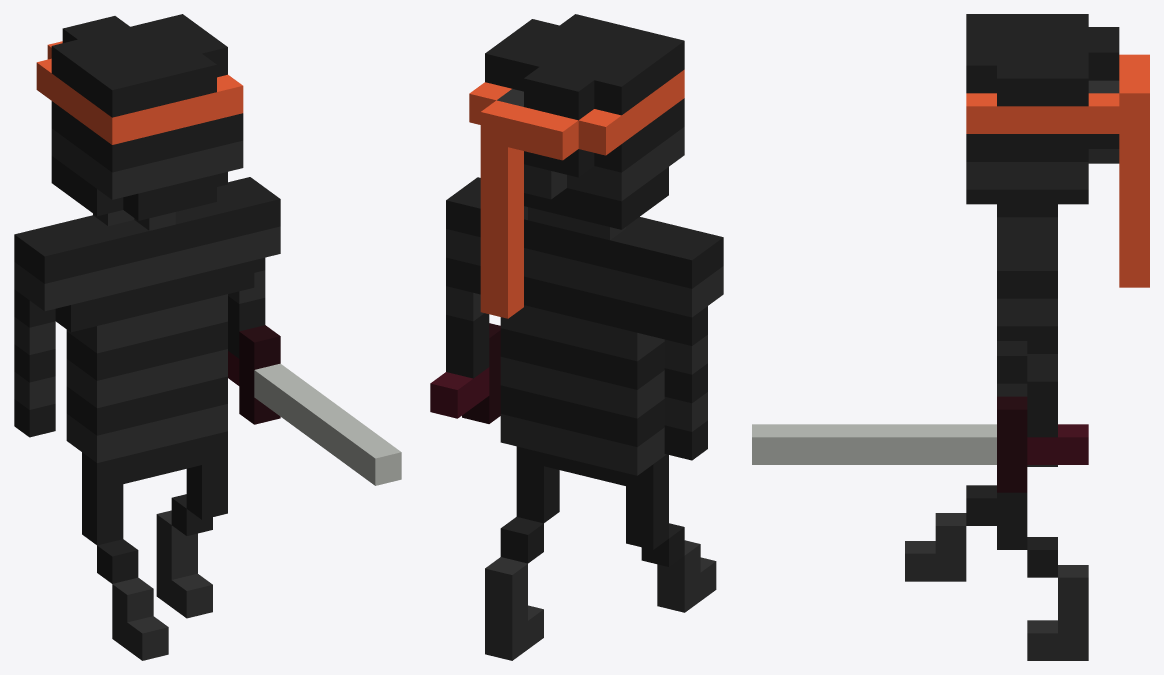
Rendered from SwingingNinjaCharater-3.obj.
3 views of the same model, side by side, from view 1: azimuth 30°, elevation 25°; view 2: azimuth 150°, elevation 25°; view 3: azimuth 270°, elevation 25° (orthographic). The views are drawn at different scales.
Visible parts, largest first — view 1: SwingingNinjaCharater-3; view 2: SwingingNinjaCharater-3; view 3: SwingingNinjaCharater-3.
Part boxes in pixels (left/top/right/bottom): SwingingNinjaCharater-3: left=14, top=14, right=401, bottom=660; SwingingNinjaCharater-3: left=430, top=14, right=723, bottom=660; SwingingNinjaCharater-3: left=752, top=14, right=1149, bottom=660.
Size of the model in its own units: 9 by 21 by 13.
1 material, 1 textured.
